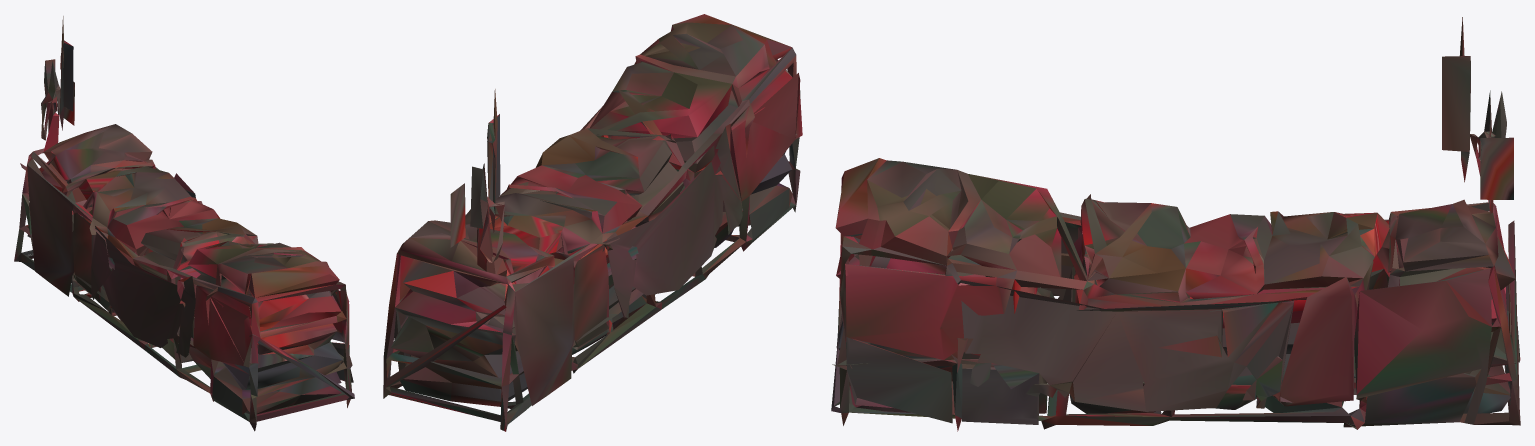
Rendered from k05_far.glb.
The picture shows the model from 3 angles, left to right: view 1: azimuth 30°, elevation 25°; view 2: azimuth 150°, elevation 25°; view 3: azimuth 270°, elevation 25°; orthographic projection. The views are drawn at different scales.
Visible parts, largest first — view 1: k05_far; view 2: k05_far; view 3: k05_far.
Boxes of the visible parts, x1,y1,x2,y2 form: k05_far: (14, 16, 354, 431); k05_far: (383, 14, 802, 431); k05_far: (831, 17, 1520, 431).
Bounding box in the file's own units: 3.08 × 6 × 10.18.
Materials: 1 (1 with a texture image).
